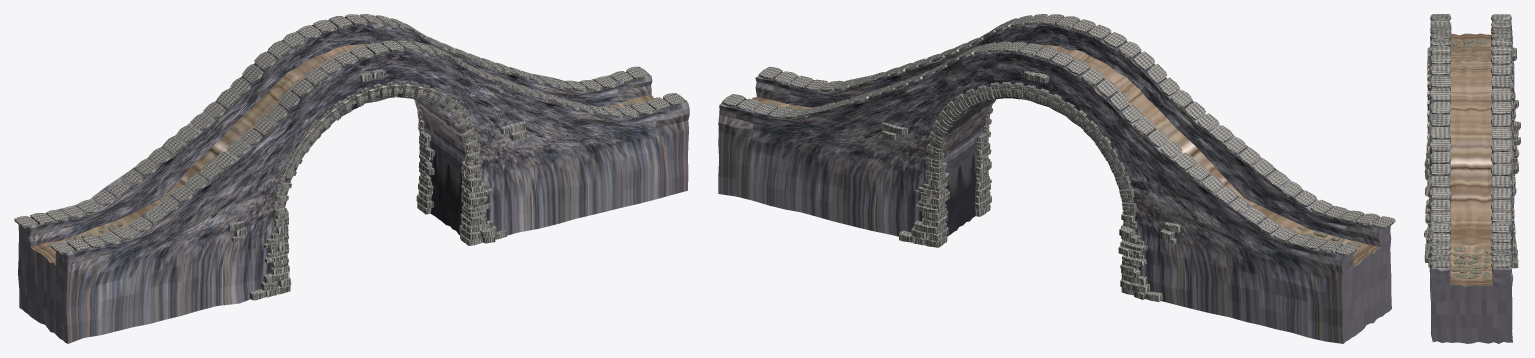
File: PuentePiedra.fbx
3 views of the same model, side by side, from view 1: azimuth 30°, elevation 25°; view 2: azimuth 150°, elevation 25°; view 3: azimuth 270°, elevation 25° (orthographic). The views are drawn at different scales.
Parts seen in each view (by area): view 1: Puente; view 2: Puente; view 3: Puente.
Boxes of the visible parts, bbox=[...] form: Puente: bbox=[14, 14, 689, 343]; Puente: bbox=[718, 14, 1395, 343]; Puente: bbox=[1424, 14, 1520, 343].
Size of the model in its own units: 3.33 by 1.1 by 0.5364.
